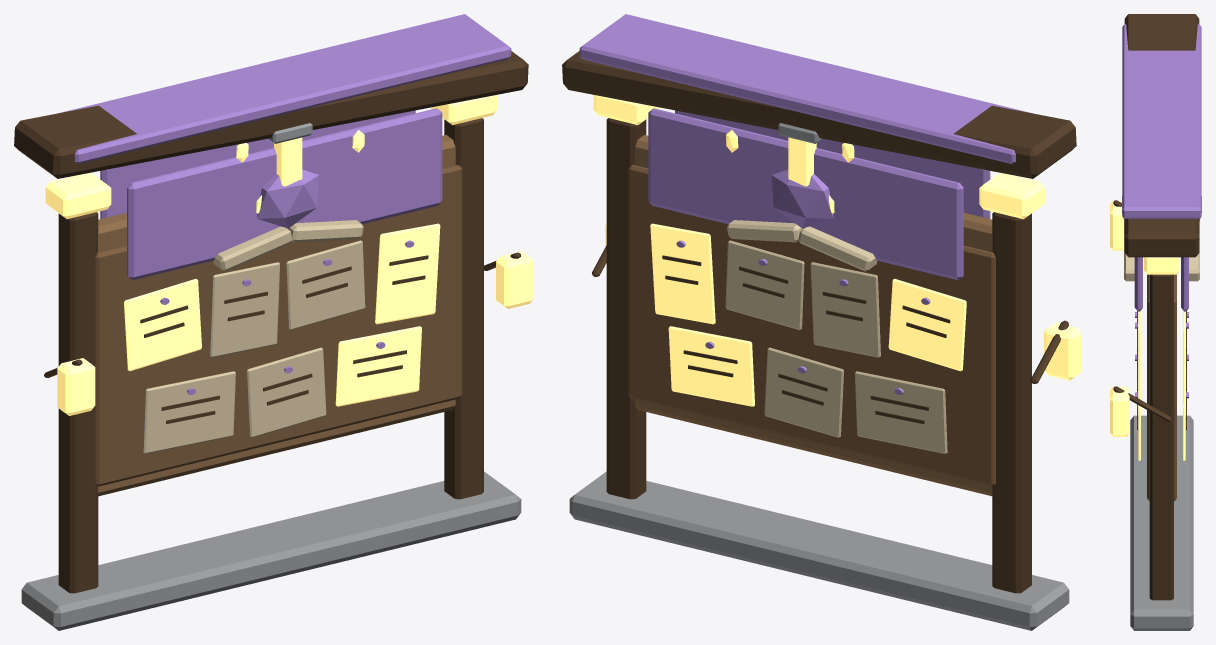
File: request_board_research.glb
The picture shows the model from 3 angles, left to right: view 1: azimuth 30°, elevation 25°; view 2: azimuth 150°, elevation 25°; view 3: azimuth 270°, elevation 25°; orthographic projection. The views are drawn at different scales.
Size of the model in its own units: 6.6 by 6.43 by 1.27.
